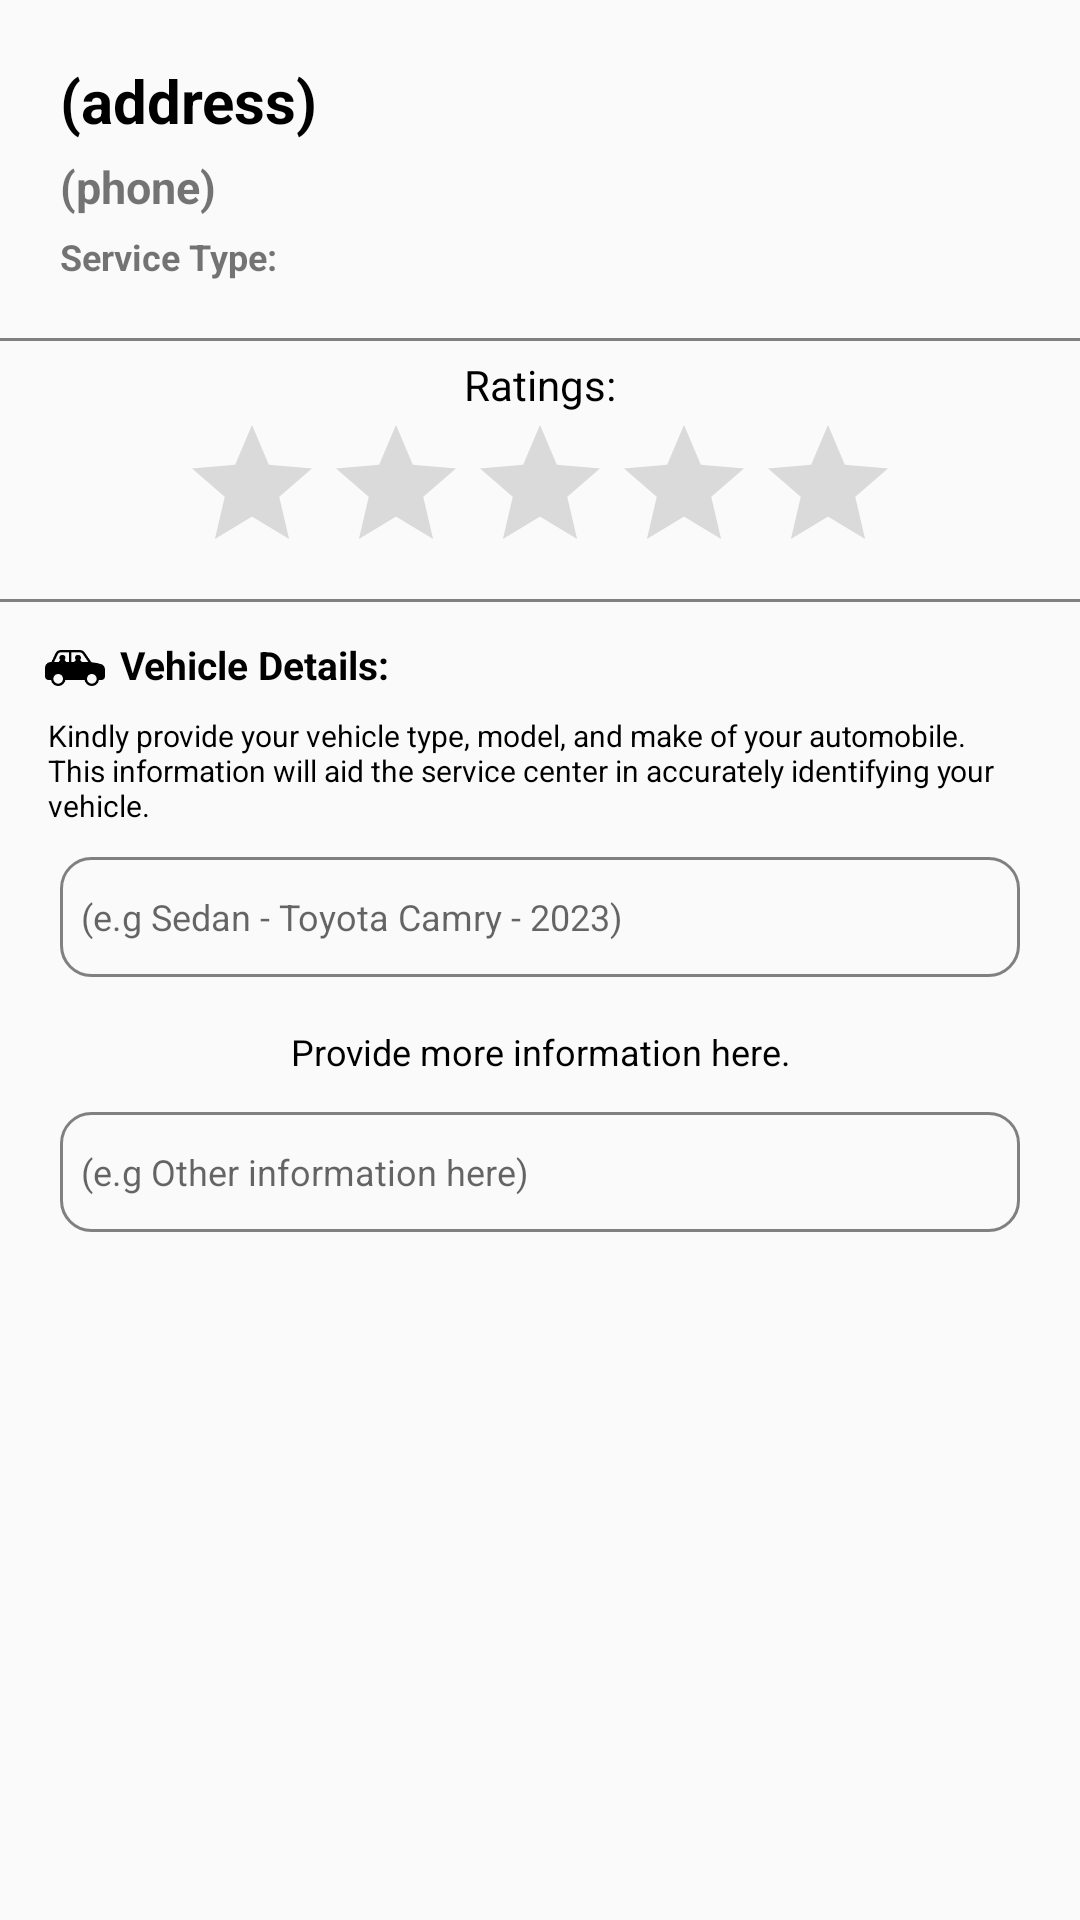

Icons on this 1080 x 1920 Android screen, each with the point to tap as [x,y]:
car: [75,668]
